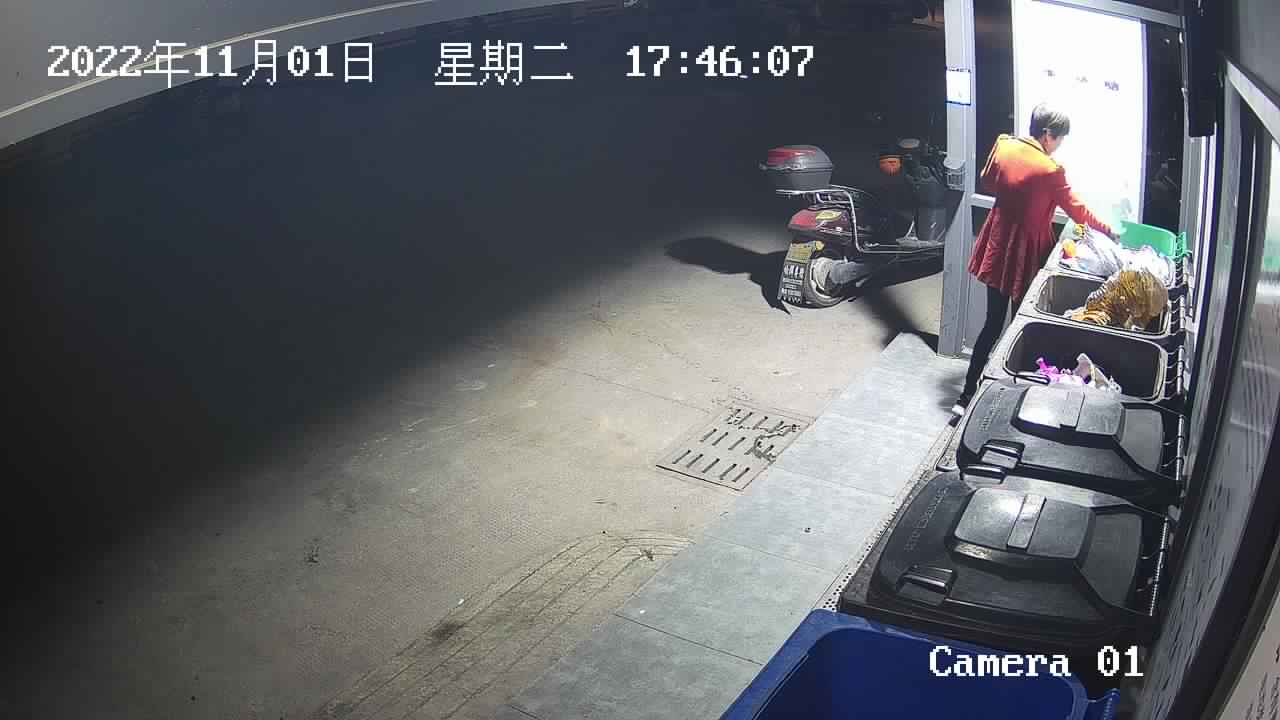person: (950, 102, 1122, 420)
